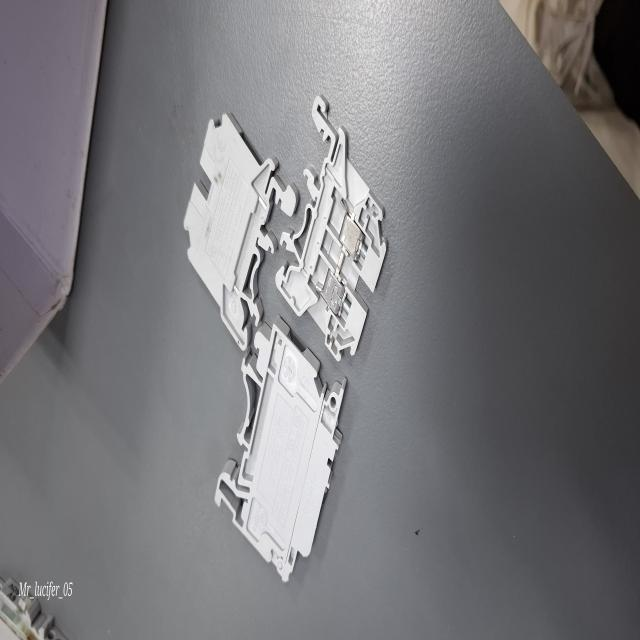Inverted: (183, 111, 293, 345)
Pass: (278, 94, 388, 360)
